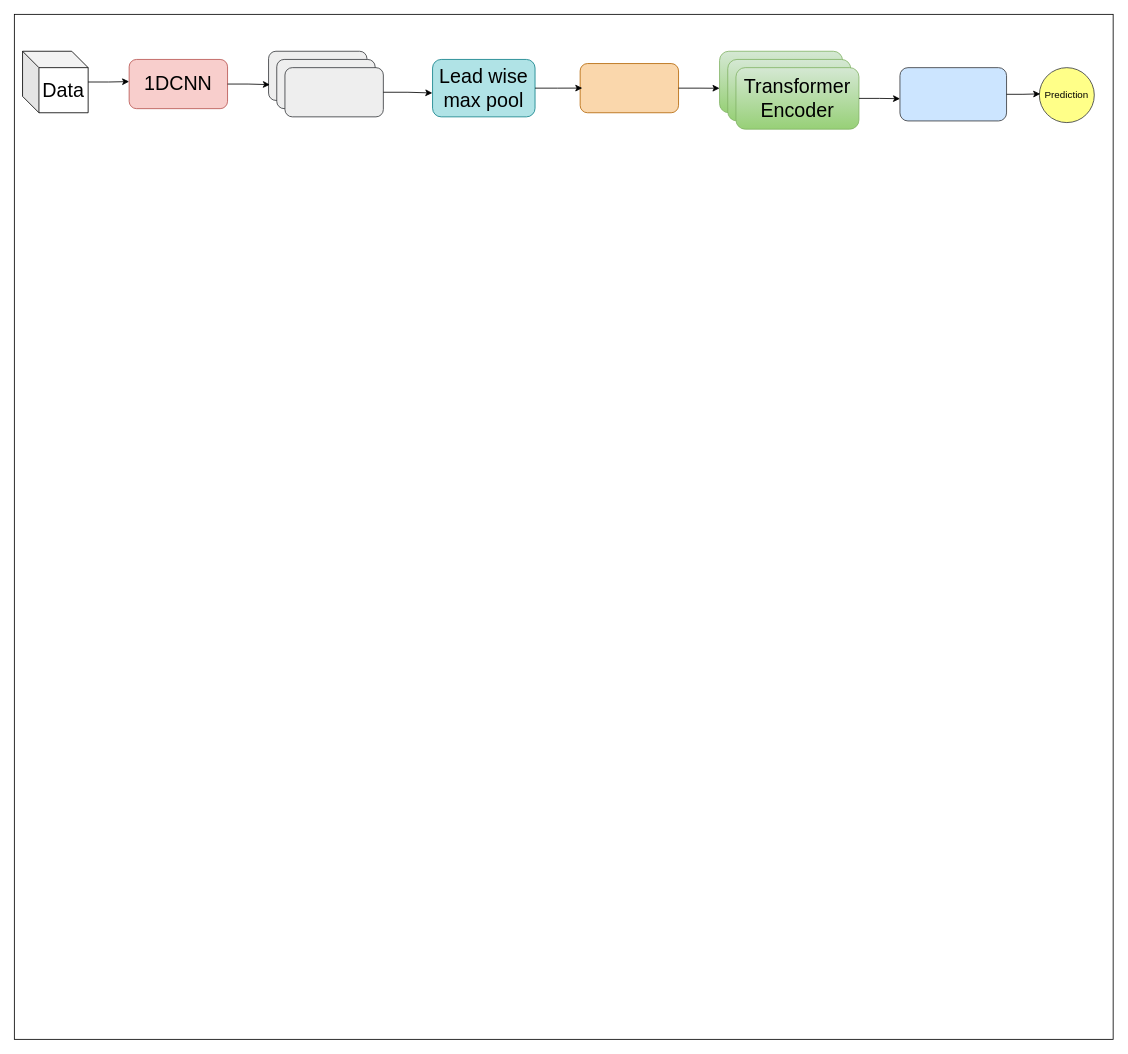
Some shapes in this 1128 by 1054 pixel diagram are drawn without their labels. The shapes that lost their labels are listed below. From the top down, each one's centre as x and y in pixels, then its label:
the point at 333,92: Bi-GRU
the point at 629,88: 2DCNN
the point at 953,94: Classifier Head
